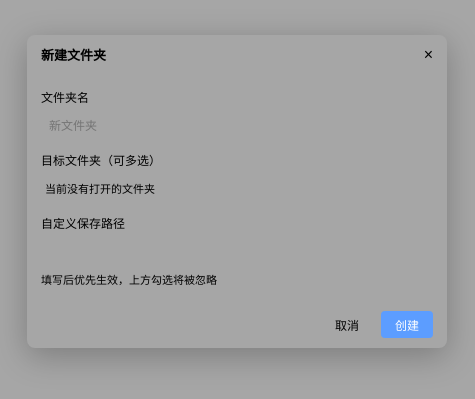
Scenario: v0.8.0 WP2 NewFolderDialog 组件 › 没有打开文件夹且未填自定义路径时提示需要目标
Type "无目标" into the field with placeholder "新文件夹" at (237, 126), box [41,113,433,139]
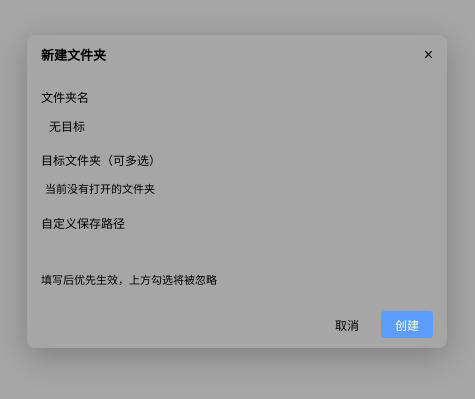
Click the button "创建" at (407, 324), box [381,310,433,337]
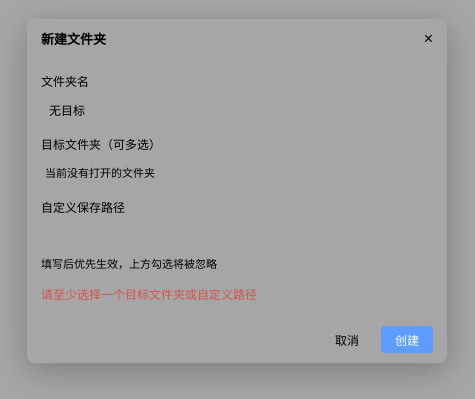
Expected: the text "请至少选择一个目标文件夹或自定义路径" is shown, [41,286,257,303]
